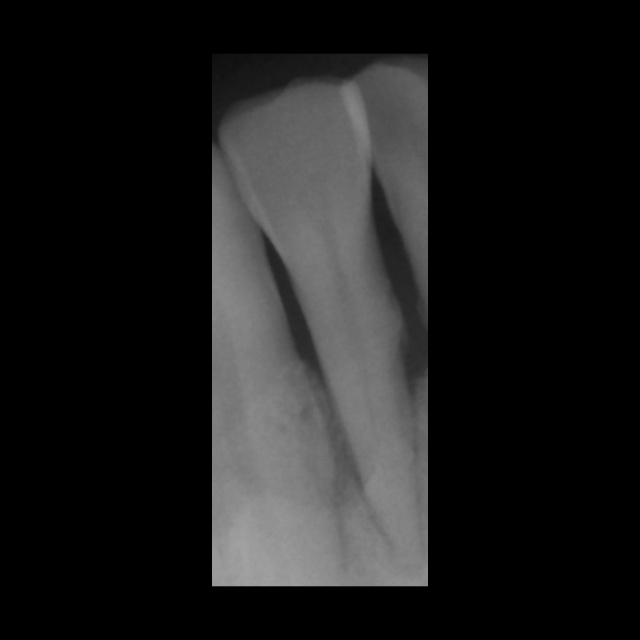tooth: (217, 75, 425, 571)
